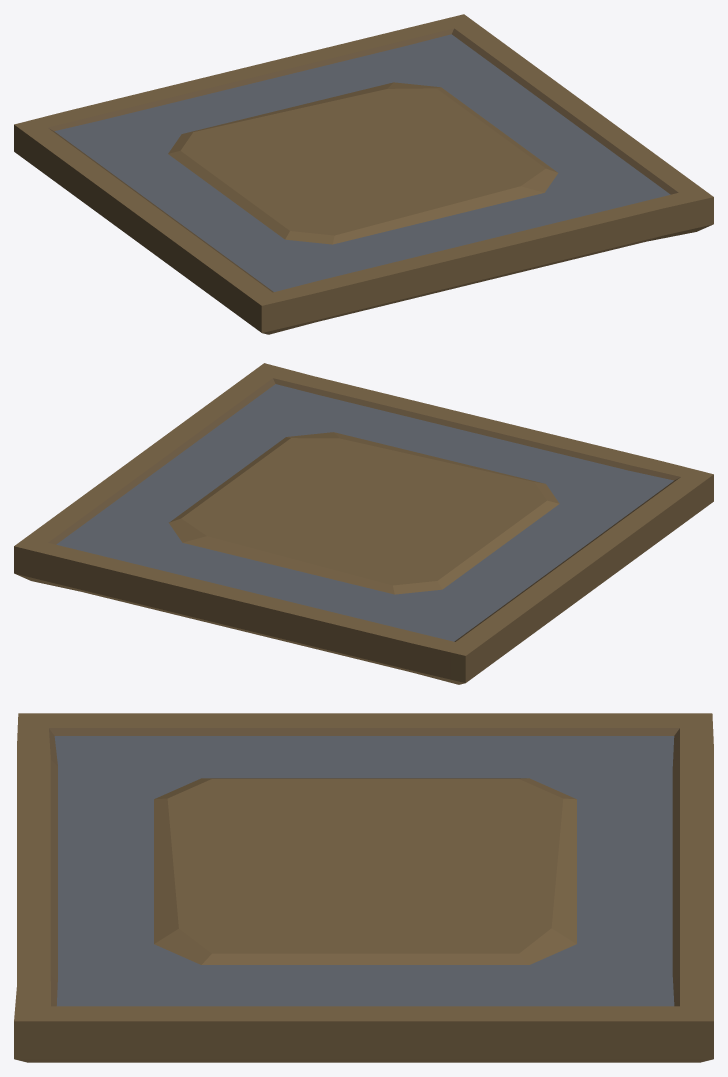
Rendered from SM_Bld_Elevator_Insert_Hatch_01.obj.
The picture shows the model from 3 angles, top to bottom: view 1: azimuth 30°, elevation 25°; view 2: azimuth 150°, elevation 25°; view 3: azimuth 270°, elevation 25°; orthographic projection. The views are drawn at different scales.
Parts seen in each view (by area): view 1: SM_Bld_Elevator_Insert_Hatch_01_0; view 2: SM_Bld_Elevator_Insert_Hatch_01_0; view 3: SM_Bld_Elevator_Insert_Hatch_01_0.
Part boxes in pixels (x1=…): SM_Bld_Elevator_Insert_Hatch_01_0: x1=14, y1=14, x2=713, y2=334; SM_Bld_Elevator_Insert_Hatch_01_0: x1=14, y1=363, x2=713, y2=684; SM_Bld_Elevator_Insert_Hatch_01_0: x1=14, y1=713, x2=713, y2=1062.
Bounding box in the file's own units: 1.28 × 0.1103 × 1.23.
1 material, 1 textured.
